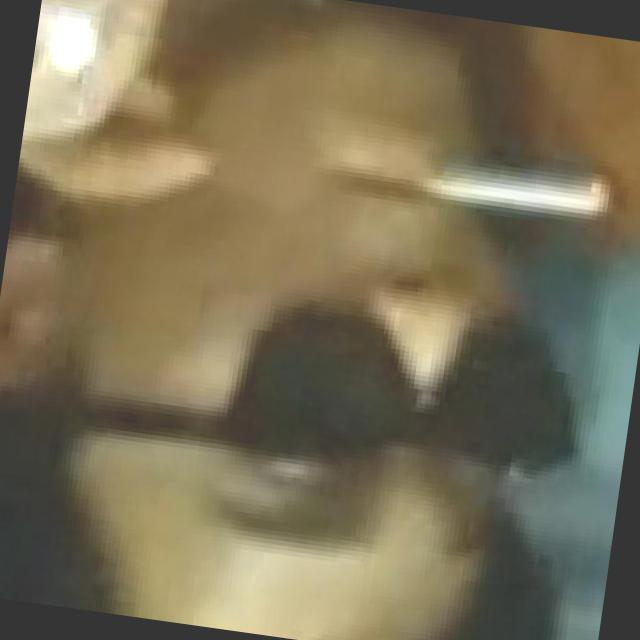cigarette: (411, 154, 625, 233)
